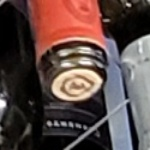bottle: (25, 28, 127, 114)
